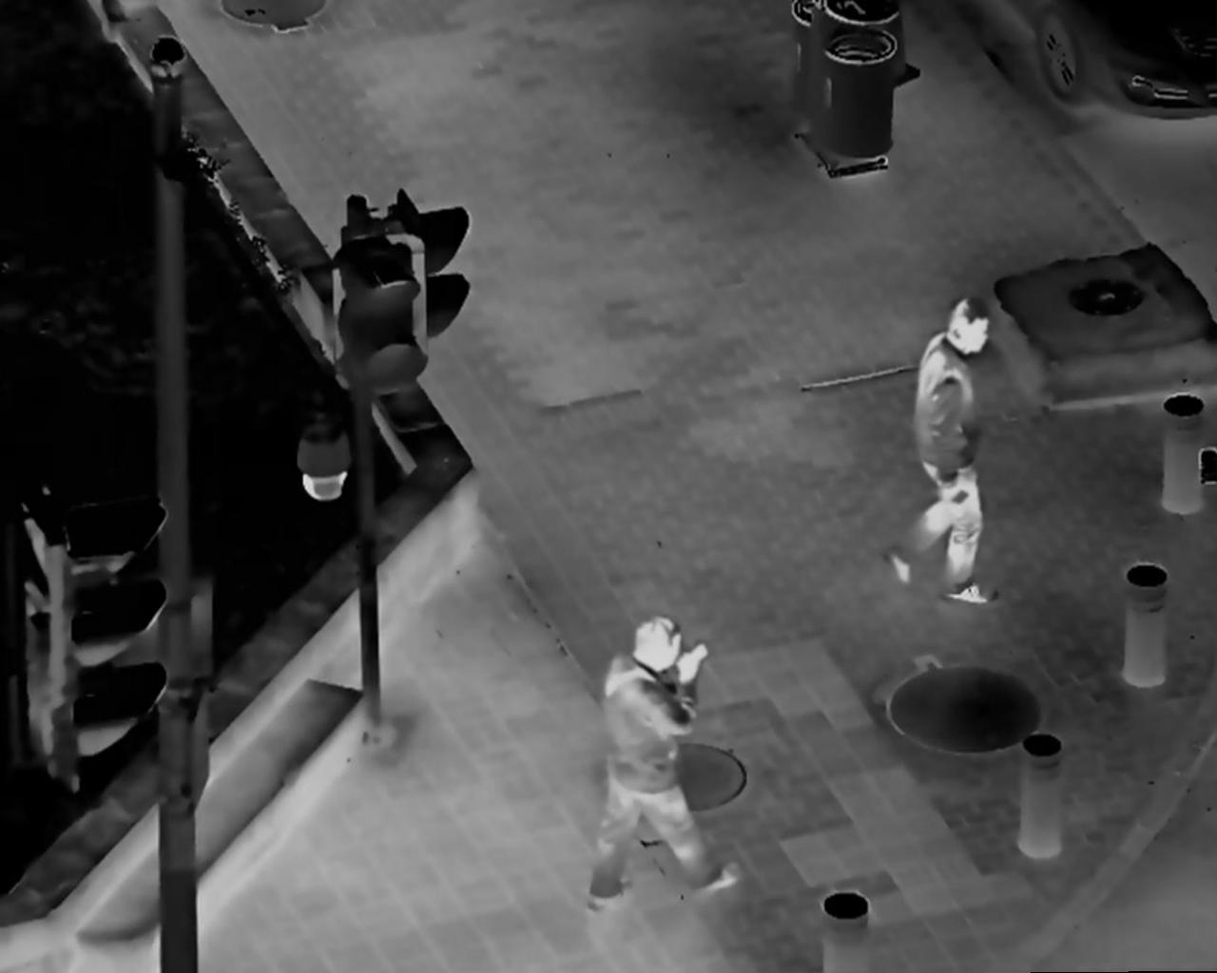person: (585, 610, 747, 918), (887, 289, 1018, 613)
